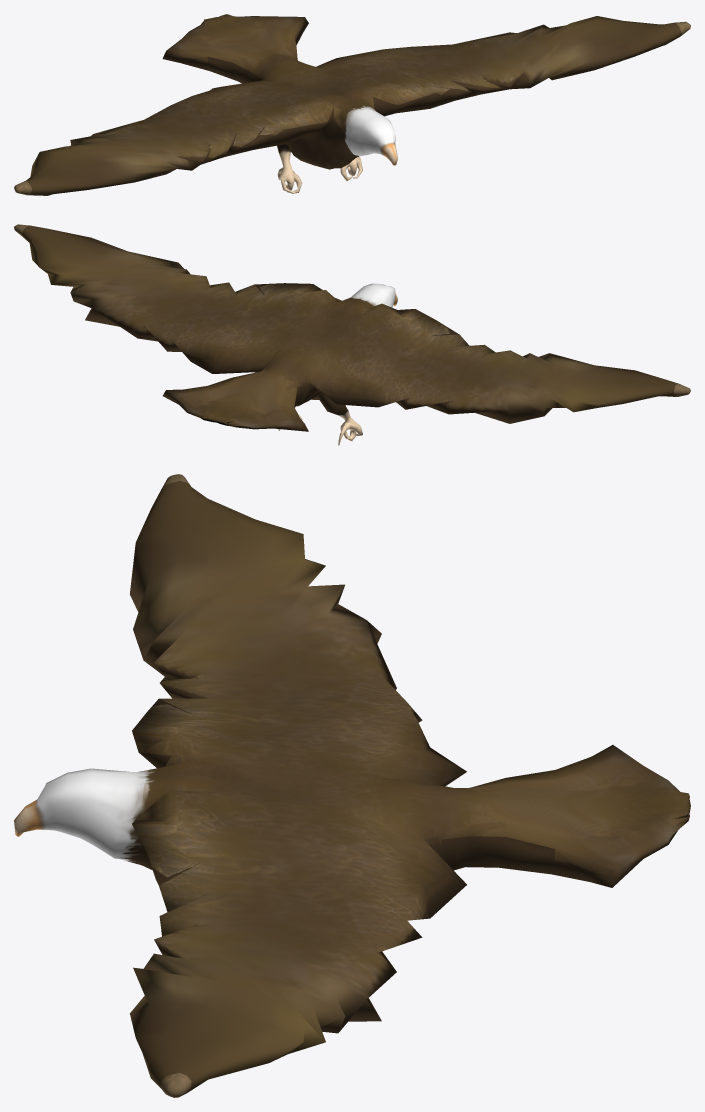
Rendered from eagle.obj.
3 views of the same model, one above another, from view 1: azimuth 30°, elevation 25°; view 2: azimuth 150°, elevation 25°; view 3: azimuth 270°, elevation 25° (orthographic). The views are drawn at different scales.
Visible parts, largest first — view 1: RetopoFlow; view 2: RetopoFlow; view 3: RetopoFlow.
Part boxes in pixels (<box>): RetopoFlow: <box>14,14,690,195</box>; RetopoFlow: <box>14,224,690,445</box>; RetopoFlow: <box>14,474,690,1097</box>.
Size of the model in its own units: 244 by 38.99 by 113.
